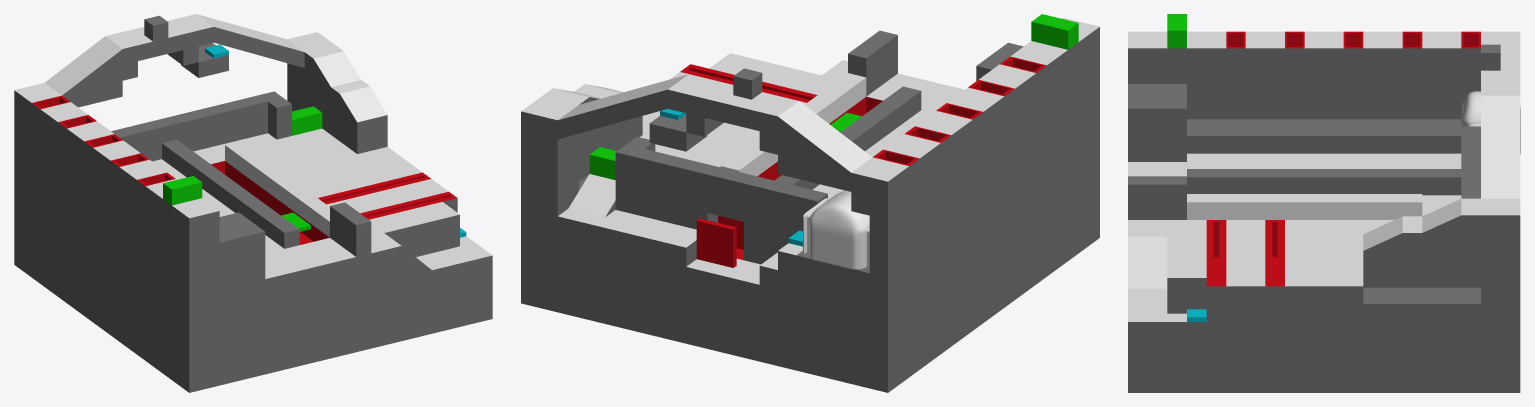
File: Nivel1_v5.fbx
3 renders of one model, left to right at view 1: azimuth 30°, elevation 25°; view 2: azimuth 150°, elevation 25°; view 3: azimuth 270°, elevation 25°, orthographic. The views are drawn at different scales.
Visible parts, largest first — view 1: Base, Pared final, Pared 3, Modulo movil 1, Pared 1, Inicio, Pivotes electricos 2, Modulo movil 2, Pared 2, Puerta 2, Puerta 1; view 2: Base, Pared final, Pared 3, Horno 2, Modulo movil 2, Pivotes electricos 2, Pared 1, Modulo movil 1, Pared 2, Pinchos pared, Puerta 2, Puerta 1 (+1 smaller); view 3: Base, Pared final, Cinta transportadora, Modulo movil 1, Pared 1, Pivotes electricos 2, Inicio, Pared 2, Pared 3, Modulo movil 2, Puerta 2, Horno 2.
Part boxes in pixels (x1,y1,x2,y2): Base: [14, 14, 492, 392]; Pared final: [14, 29, 219, 297]; Pared 3: [111, 91, 291, 161]; Modulo movil 1: [304, 45, 387, 153]; Pared 1: [162, 139, 299, 248]; Inicio: [204, 212, 265, 293]; Pivotes electricos 2: [225, 141, 329, 237]; Modulo movil 2: [136, 15, 228, 77]; Pared 2: [330, 202, 371, 256]; Puerta 2: [163, 176, 202, 205]; Puerta 1: [292, 106, 322, 135]; Base: [521, 53, 1099, 392]; Pared final: [741, 17, 1099, 277]; Pared 3: [615, 137, 827, 233]; Horno 2: [803, 190, 869, 269]; Modulo movil 2: [649, 68, 762, 151]; Pivotes electricos 2: [720, 73, 866, 176]; Pared 1: [775, 86, 921, 189]; Modulo movil 1: [542, 84, 642, 181]; Pared 2: [848, 30, 897, 96]; Pinchos pared: [696, 218, 736, 267]; Puerta 2: [1031, 14, 1078, 49]; Puerta 1: [589, 147, 616, 180]; Base: [1128, 79, 1520, 392]; Pared final: [1128, 31, 1520, 126]; Cinta transportadora: [1187, 119, 1461, 153]; Modulo movil 1: [1363, 198, 1480, 286]; Pared 1: [1187, 169, 1461, 195]; Pivotes electricos 2: [1187, 194, 1422, 219]; Inicio: [1128, 84, 1186, 161]; Pared 2: [1128, 176, 1186, 219]; Pared 3: [1461, 126, 1480, 198]; Modulo movil 2: [1481, 44, 1520, 78]; Puerta 2: [1167, 14, 1186, 48]; Horno 2: [1462, 91, 1520, 154].
Size of the model in its own units: 2000 by 1400 by 2003.
